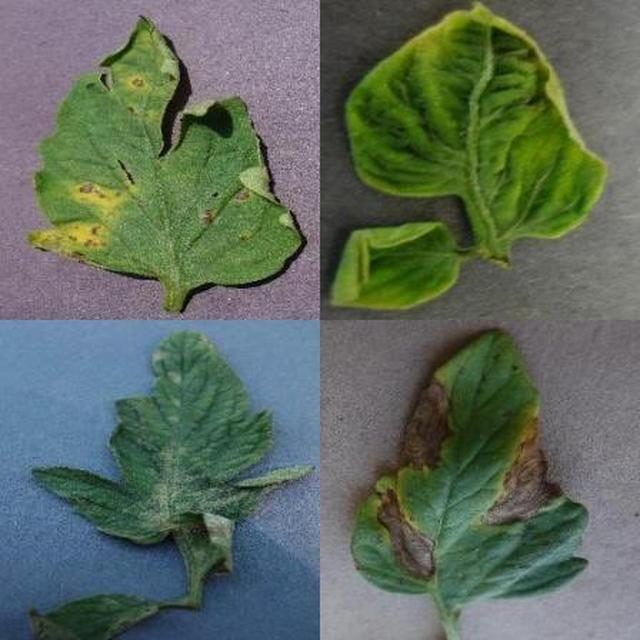Septoria Leaf: (187, 122, 640, 640)
